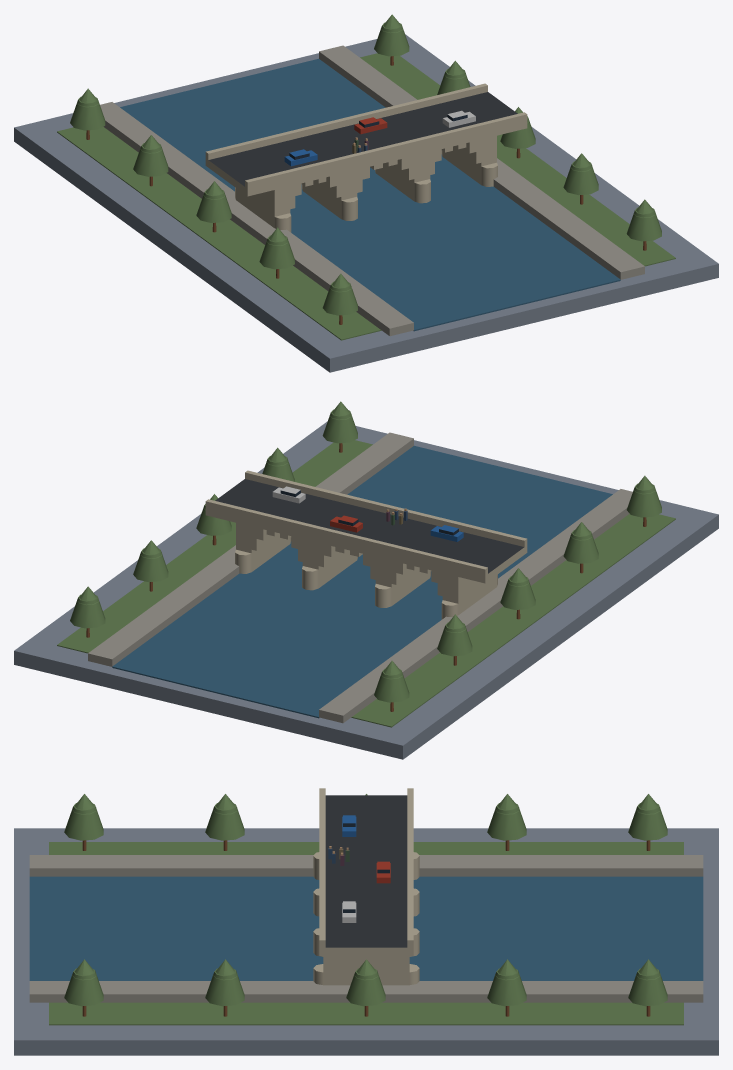
Rendered from bridge.glb.
3 renders of one model, top to bottom at view 1: azimuth 30°, elevation 25°; view 2: azimuth 150°, elevation 25°; view 3: azimuth 270°, elevation 25°, orthographic. The views are drawn at different scales.
Visible parts, largest first — view 1: bridge; view 2: bridge; view 3: bridge.
Boxes of the visible parts, bbox=[...] form: bridge: bbox=[14, 14, 718, 372]; bridge: bbox=[14, 401, 718, 759]; bridge: bbox=[14, 788, 718, 1055].
Size of the model in its own units: 64 by 12.95 by 90.
